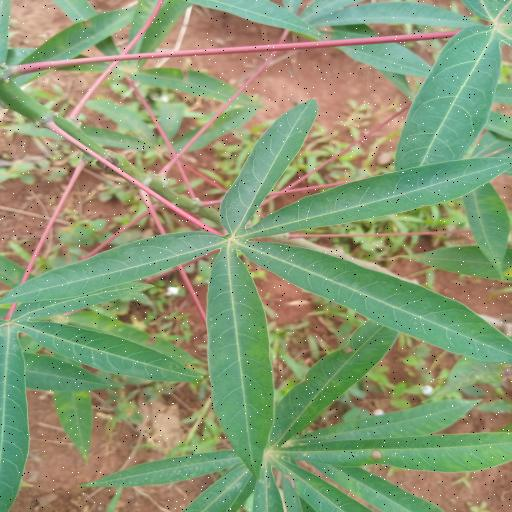Cassava_Brown_Leaf_Spot: (0, 97, 512, 460), (74, 319, 512, 509)
